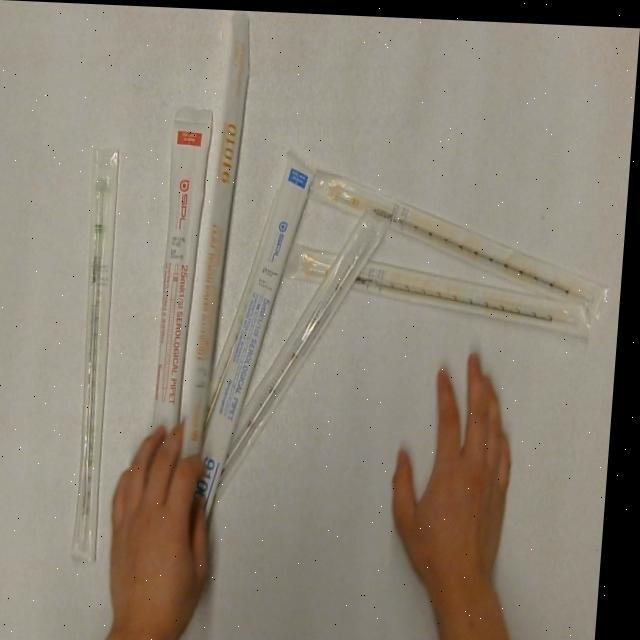Serelogical Pipet 1 mL - Sealed: (300, 150, 625, 314), (292, 235, 612, 336)
Serelogical Pipet 10 mL - Sealed: (185, 8, 256, 462)
Serelogical Pipet 2 mL - Sealed: (70, 140, 132, 569)
Serelogical Pipet 25 mL - Sealed: (153, 102, 219, 436)
Serelogical Pipet 5 mL - Sealed: (197, 140, 322, 517)
